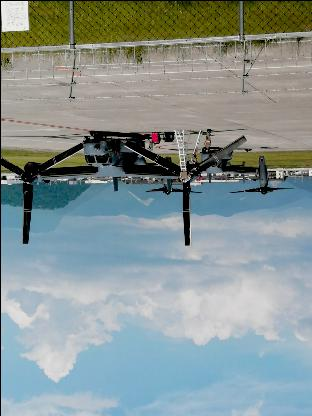Tornado: (1, 130, 246, 246), (144, 147, 294, 194)
